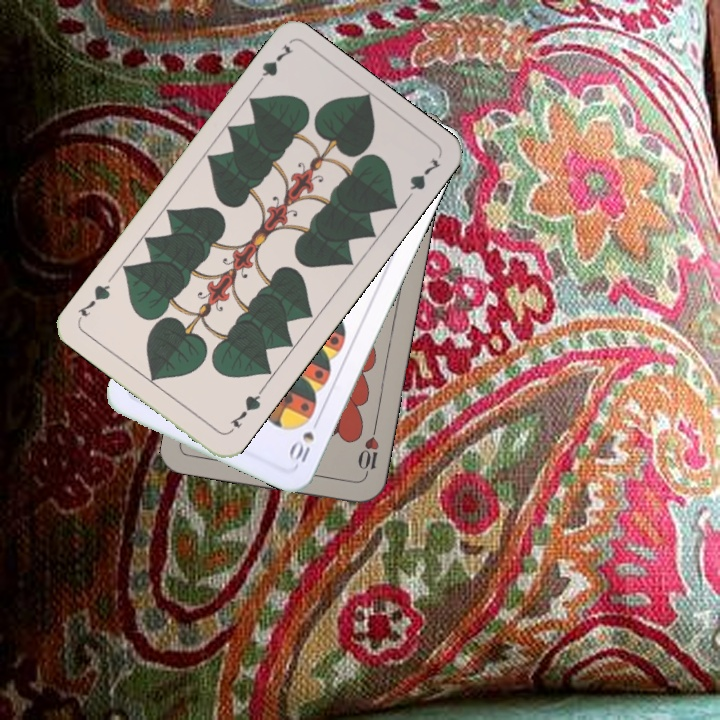G7: (250, 40, 296, 91), (224, 385, 265, 436)
H10: (354, 422, 382, 481)
S10: (285, 413, 323, 465)
